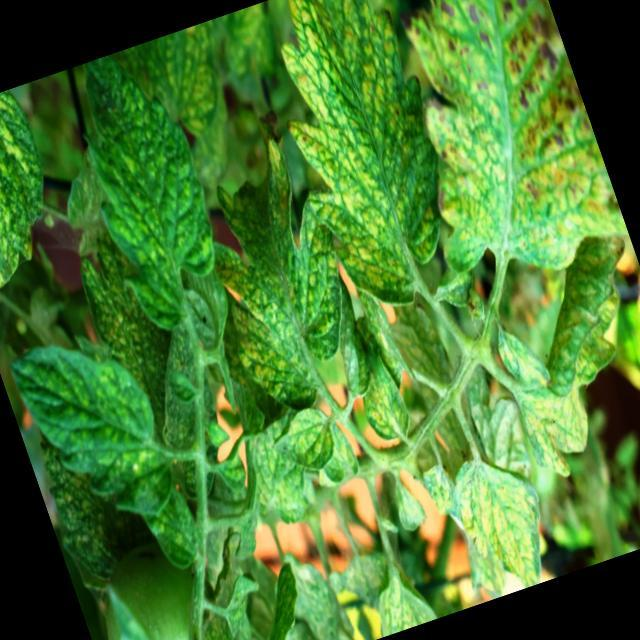Tomato spider mites leaf: (344, 0, 632, 305), (242, 0, 487, 320), (171, 120, 382, 428), (50, 38, 248, 346), (471, 224, 640, 490), (1, 316, 186, 542), (442, 436, 566, 600), (0, 85, 86, 311), (118, 20, 243, 151), (343, 336, 417, 451), (263, 400, 344, 486), (489, 310, 557, 400)
